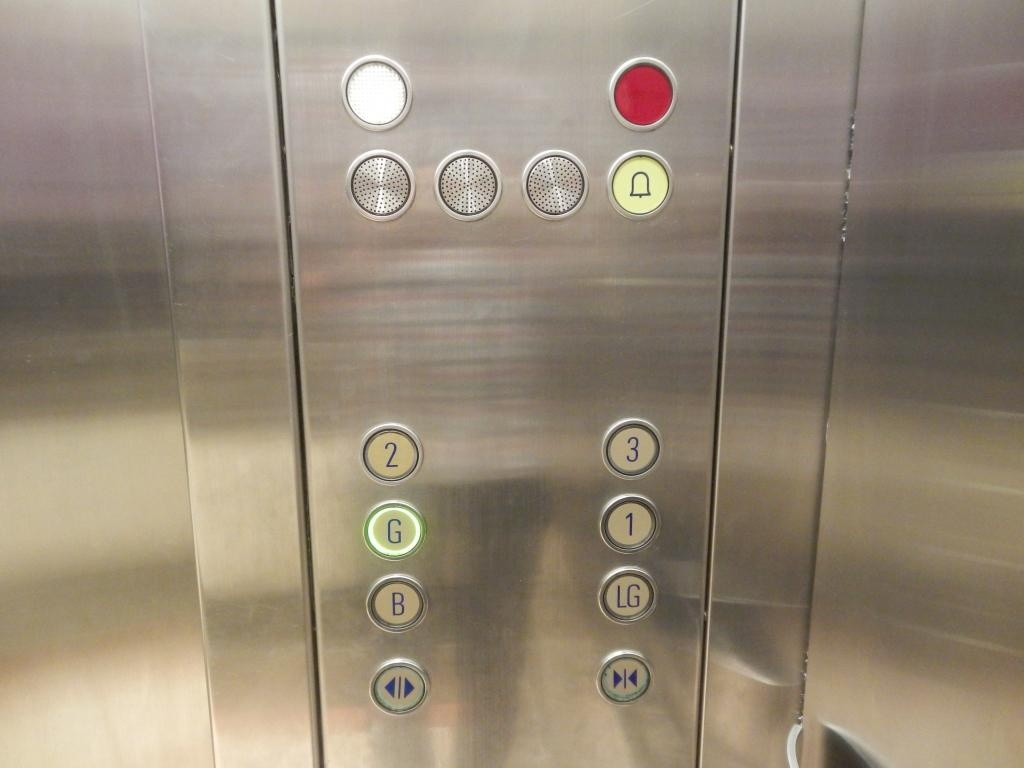1: (596, 489, 662, 556)
2: (357, 419, 426, 485)
3: (599, 414, 665, 481)
B: (364, 569, 430, 636)
G: (360, 495, 426, 562)
LG: (594, 564, 658, 628)
alarm: (604, 146, 676, 221)
close: (592, 644, 656, 708)
empty: (339, 53, 415, 132), (604, 52, 680, 131)
open: (367, 654, 431, 718)
speaker: (517, 145, 589, 220), (431, 147, 503, 222), (344, 147, 416, 222)
